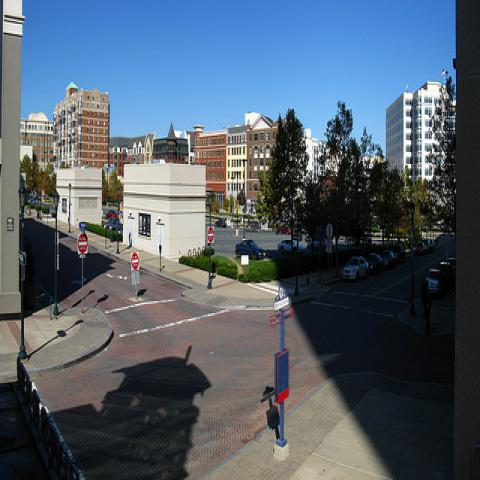car: (235, 238, 268, 260), (343, 255, 369, 282), (426, 269, 445, 295), (367, 252, 383, 277), (277, 238, 297, 255), (440, 255, 456, 272), (395, 249, 410, 265), (382, 250, 395, 268), (423, 238, 435, 251), (415, 242, 425, 255), (279, 225, 291, 235), (214, 218, 226, 228)
